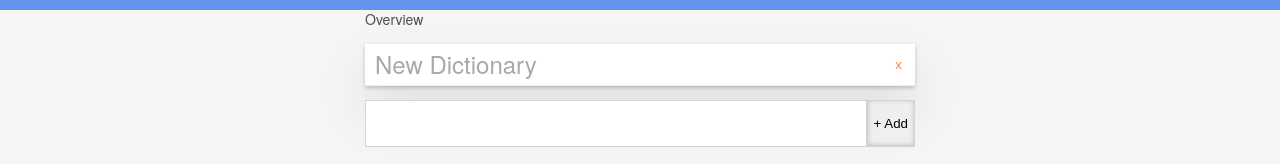
Test: removes dictionary
Expected: the link "New Dictionary" is shown, [375,54,537,75]
Click the button with test id "delete-1".
click(899, 64)  # box [892,54,905,75]
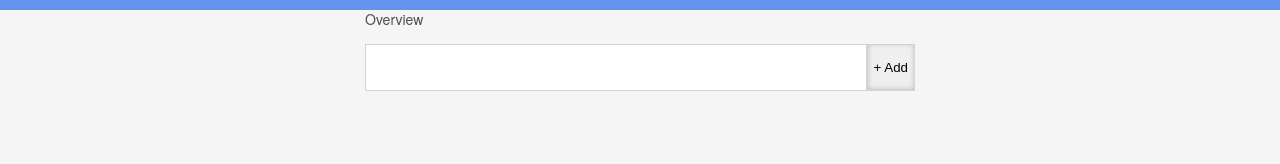
Expected: the link "New Dictionary" is gone
